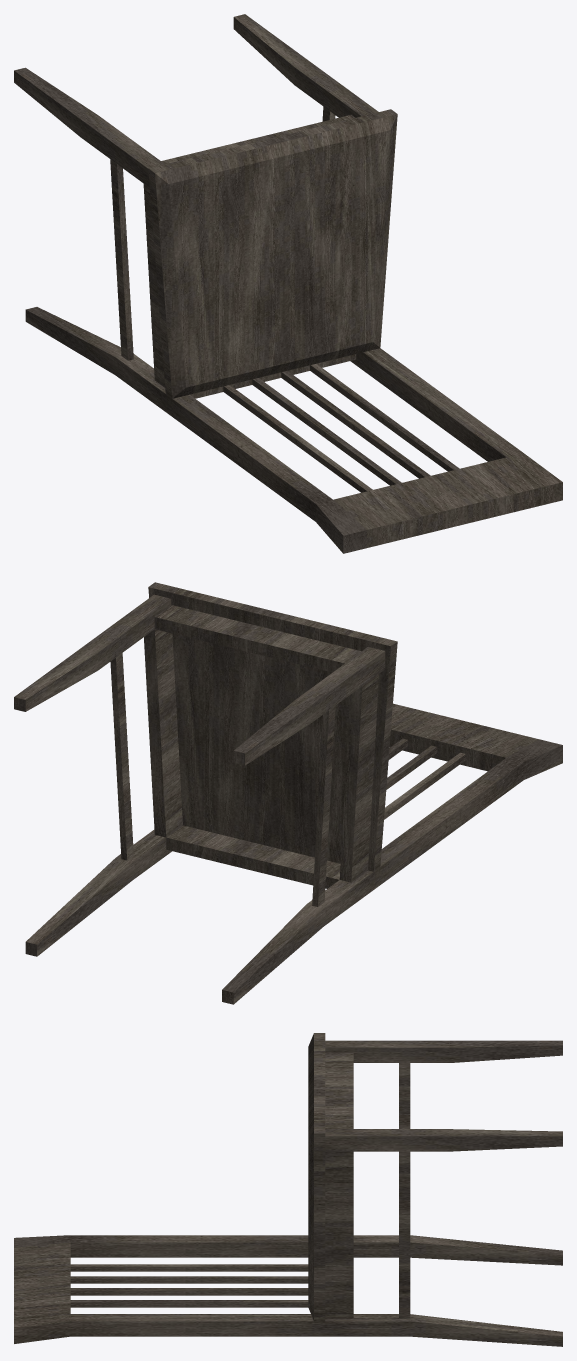
File: chair178_wtf.obj
The picture shows the model from 3 angles, top to bottom: view 1: azimuth 30°, elevation 25°; view 2: azimuth 150°, elevation 25°; view 3: azimuth 270°, elevation 25°; orthographic projection. The views are drawn at different scales.
Visible parts, largest first — view 1: group4, group3; view 2: group3, group4; view 3: group3, group4.
Part boxes in pixels (x1,y1,x2,y2): group4: [148, 109, 397, 398]; group3: [14, 14, 562, 553]; group3: [14, 594, 562, 1004]; group4: [148, 582, 397, 871]; group3: [14, 1040, 562, 1346]; group4: [308, 1033, 325, 1321].
Bounding box in the file's own units: 286 × 293 × 660.
